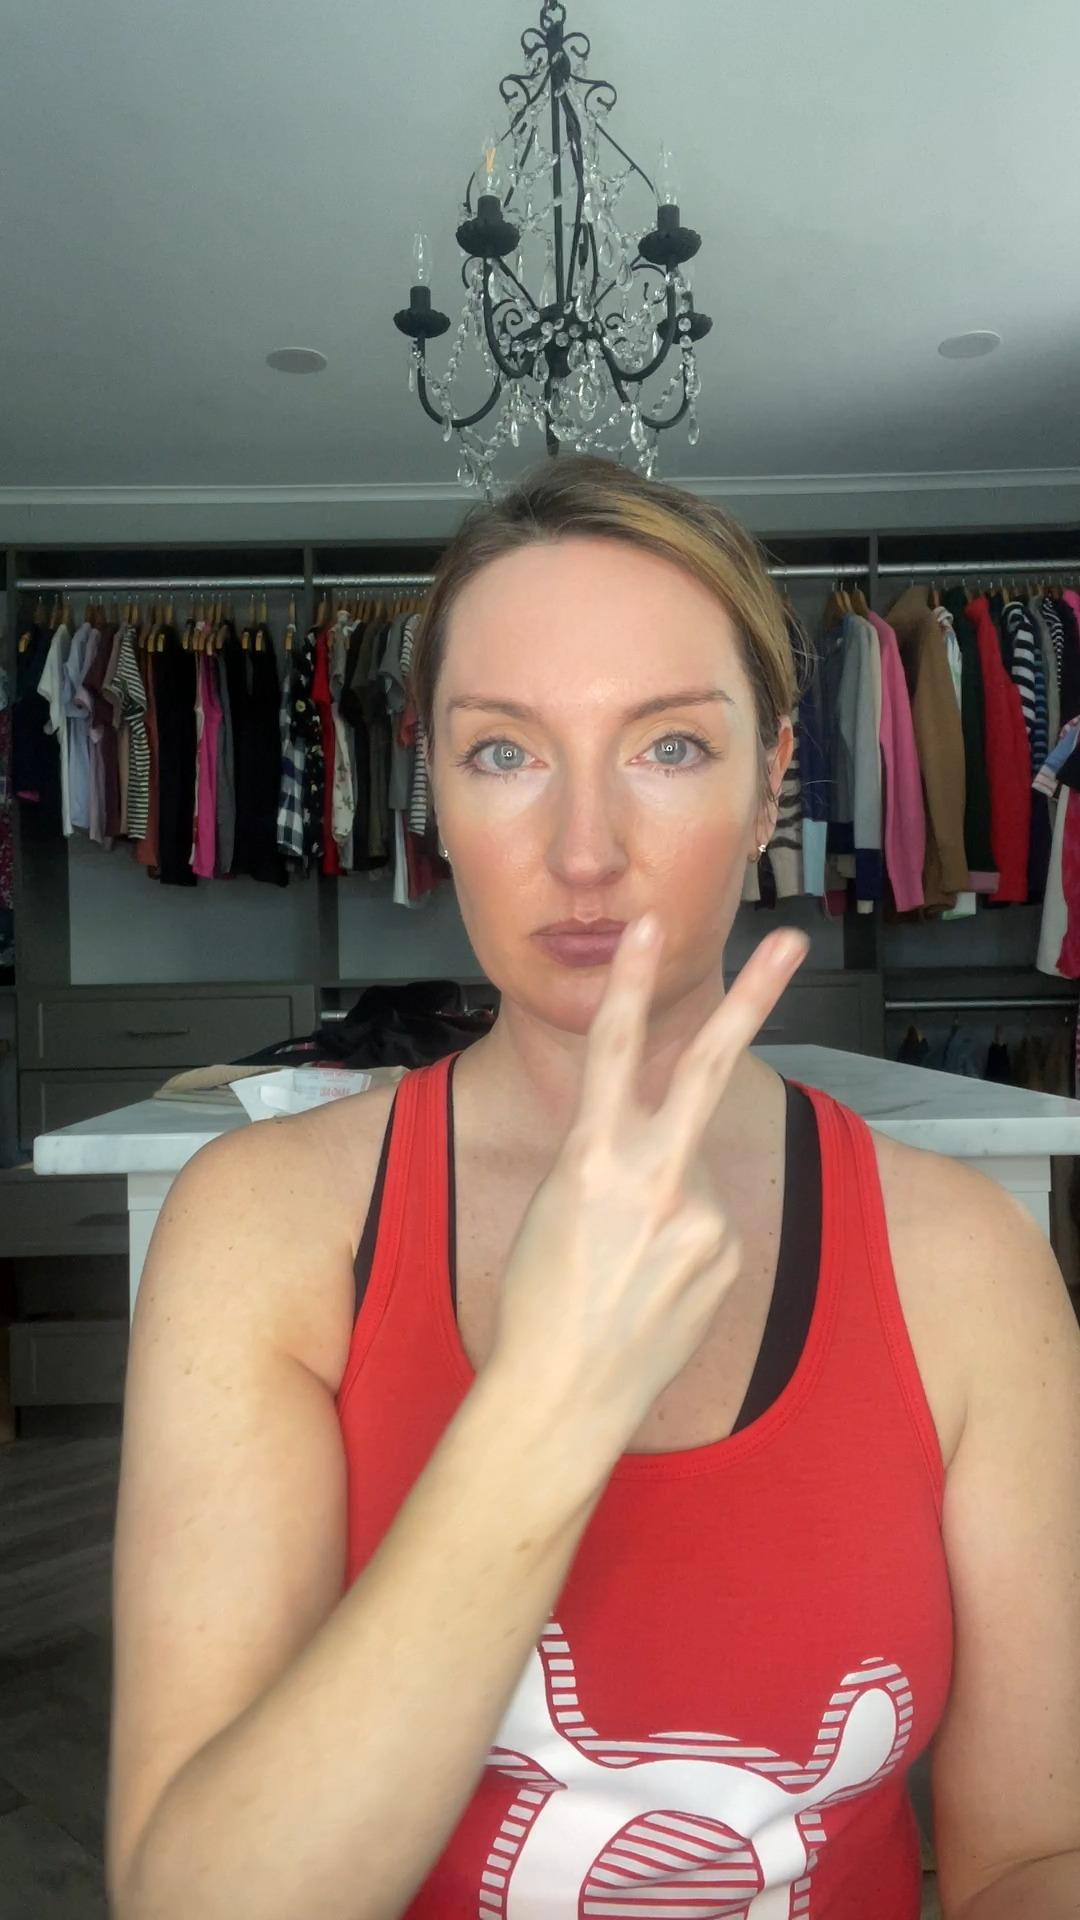Scissors: (500, 903, 806, 1415)
